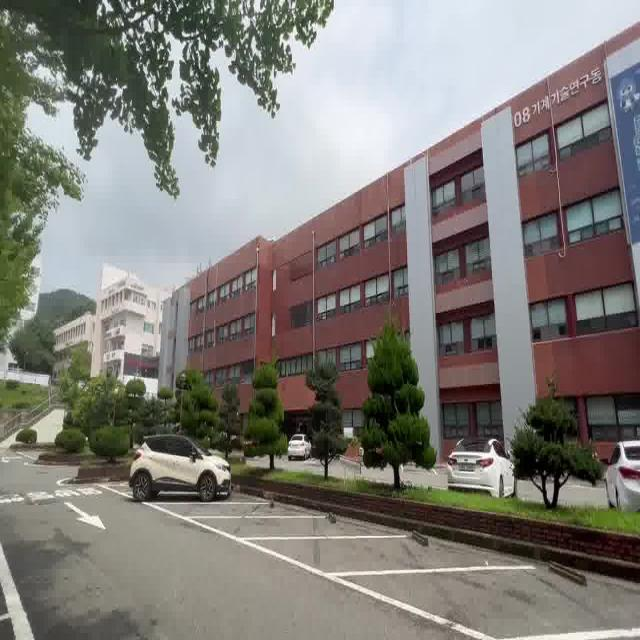building: (220, 66, 604, 360)
